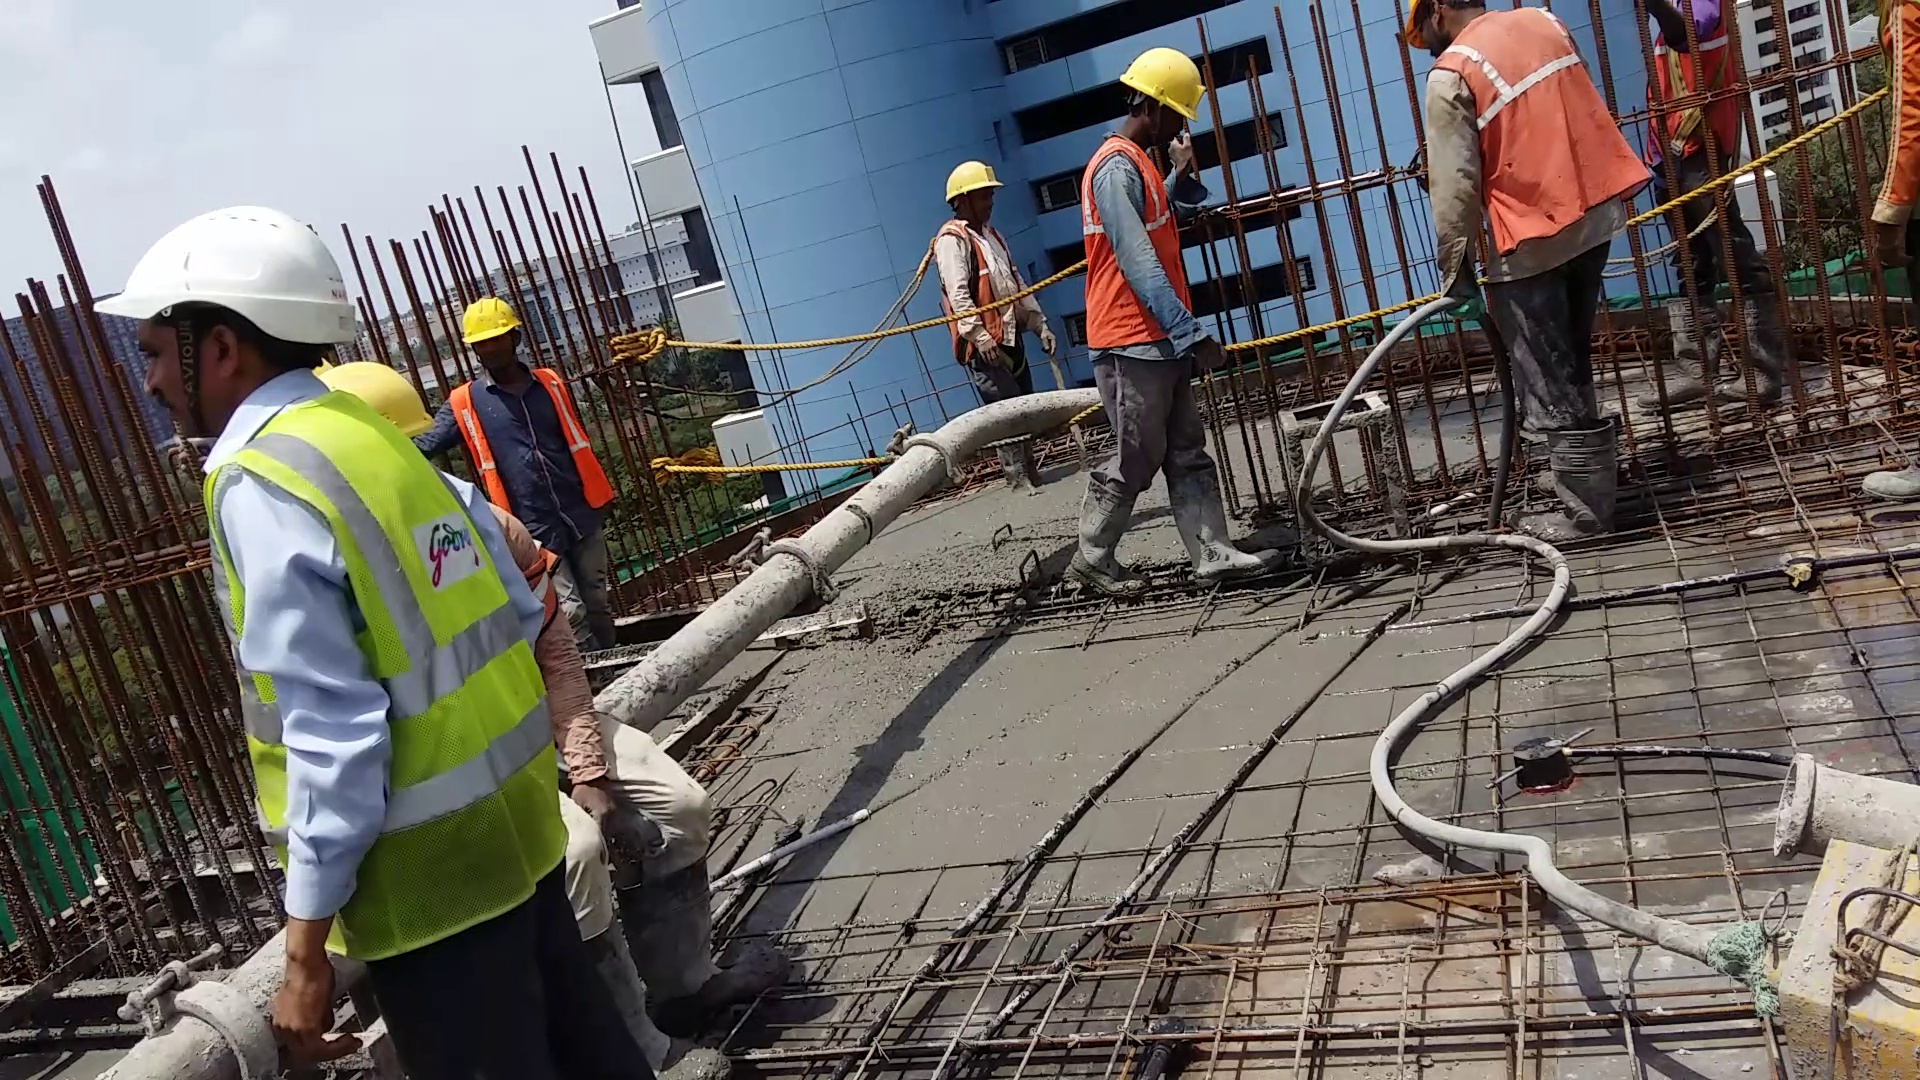SAFE: (116, 208, 488, 951), (1400, 1, 1567, 265), (1081, 47, 1212, 351), (481, 295, 600, 537), (932, 161, 1033, 361)
